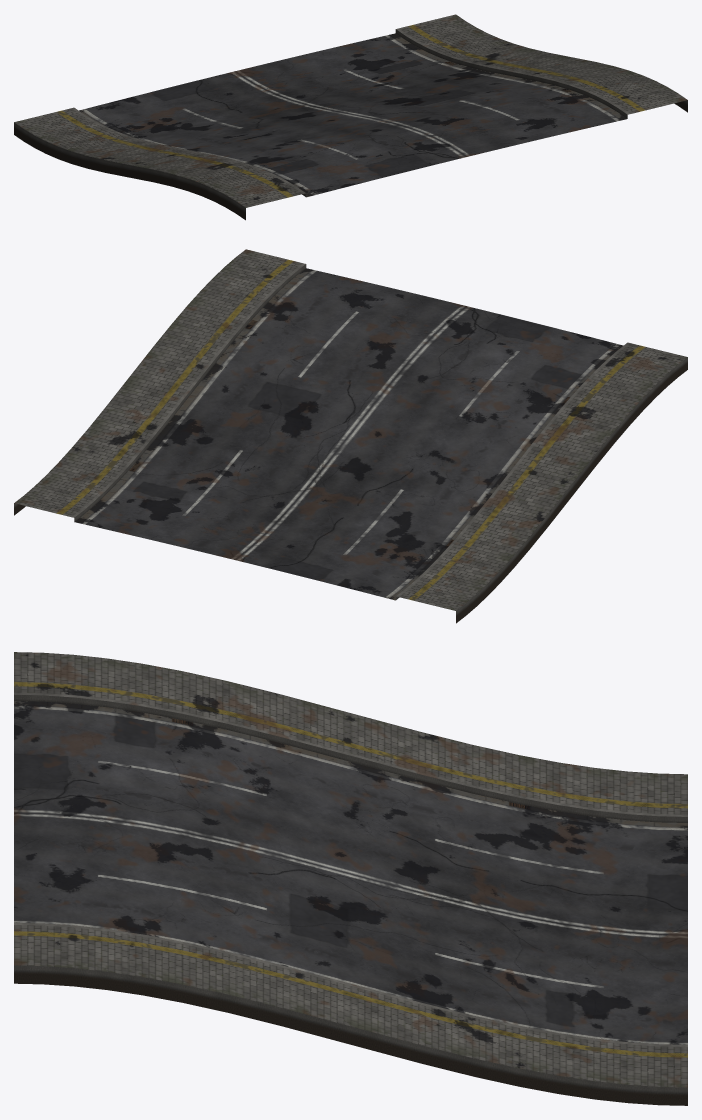
Rendered from Road_Slope_Down400.fbx.
3 views of the same model, one above another, from view 1: azimuth 30°, elevation 25°; view 2: azimuth 150°, elevation 25°; view 3: azimuth 270°, elevation 25° (orthographic). The views are drawn at different scales.
Parts seen in each view (by area): view 1: Road_Slope_Down400; view 2: Road_Slope_Down400; view 3: Road_Slope_Down400.
Boxes of the visible parts, x1,y1,x2,y2 form: Road_Slope_Down400: [14, 14, 687, 220]; Road_Slope_Down400: [14, 249, 687, 623]; Road_Slope_Down400: [14, 652, 687, 1105].
Size of the model in its own units: 2200 by 460 by 2000.
